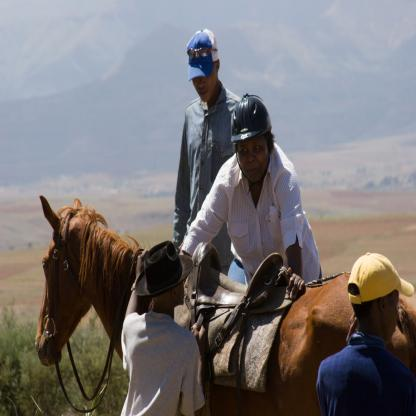Helmet: (232, 89, 277, 184)
